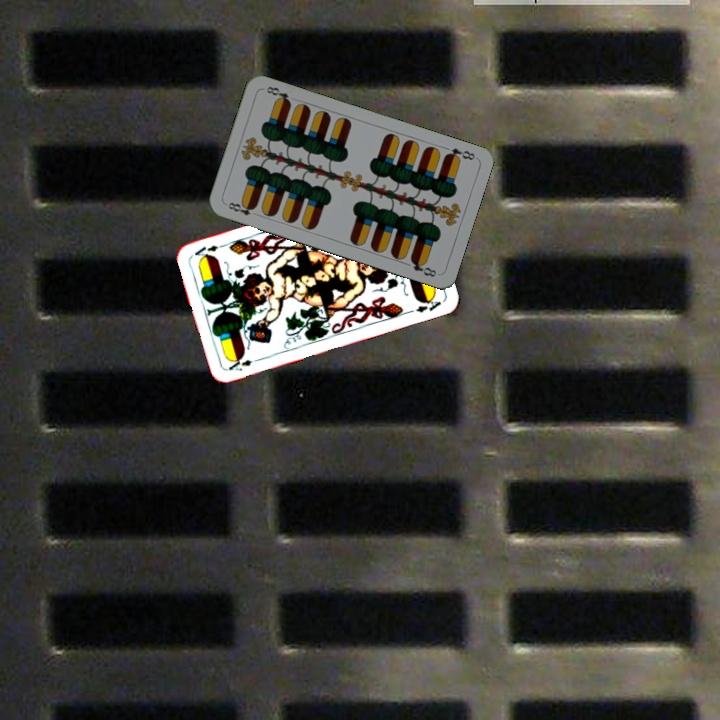E8: (441, 144, 478, 164), (222, 198, 258, 218)
EA: (224, 353, 255, 373)
